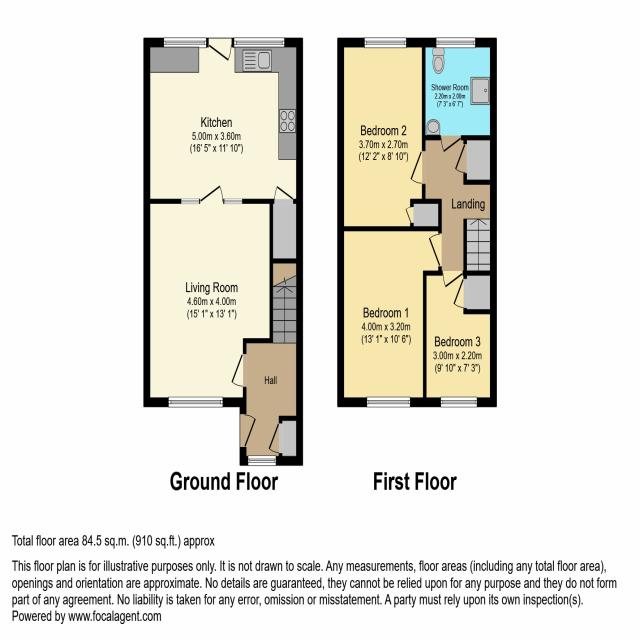DOOR: (208, 37, 232, 62), (239, 413, 256, 448), (409, 150, 426, 185), (231, 353, 247, 388), (452, 277, 468, 309), (428, 232, 442, 268), (200, 184, 224, 204), (268, 422, 283, 454), (454, 143, 468, 175), (440, 134, 462, 154), (442, 269, 463, 289), (274, 185, 294, 204)
ROOM: (143, 184, 273, 408), (143, 37, 303, 204), (337, 226, 442, 407), (337, 38, 426, 231), (422, 270, 497, 408)
WINDOW: (168, 396, 223, 408), (233, 37, 285, 48), (364, 36, 407, 49), (366, 396, 411, 408), (435, 36, 476, 49), (163, 37, 207, 48), (440, 396, 478, 408), (248, 455, 276, 466), (181, 198, 200, 204), (224, 198, 243, 204)
